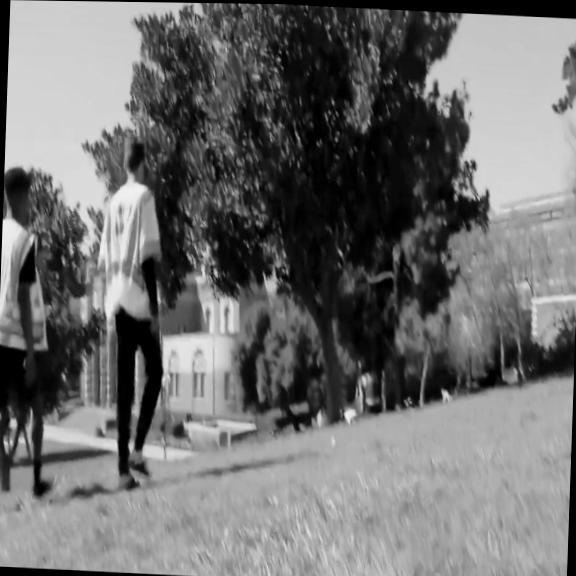safety_vest: (92, 182, 162, 331), (0, 216, 52, 350)
